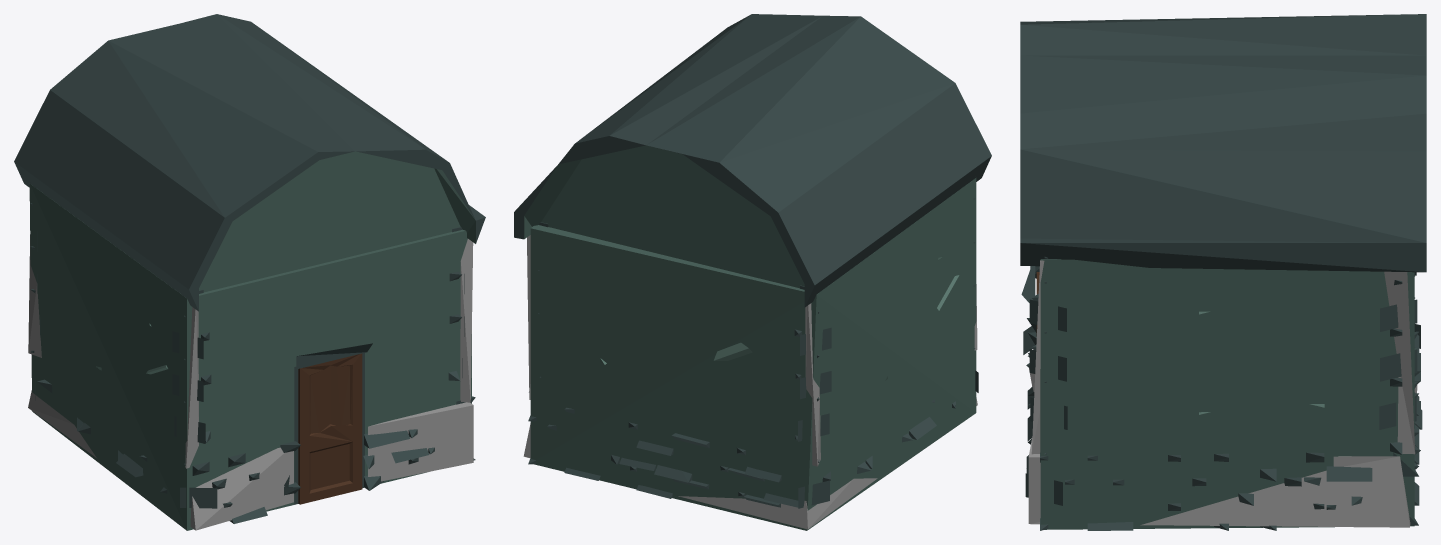
Rendered from 1Story_RoundRoof_lod.glb.
The picture shows the model from 3 angles, left to right: view 1: azimuth 30°, elevation 25°; view 2: azimuth 150°, elevation 25°; view 3: azimuth 270°, elevation 25°; orthographic projection. The views are drawn at different scales.
Visible parts, largest first — view 1: 1Story_RoundRoof_Mat; view 2: 1Story_RoundRoof_Mat; view 3: 1Story_RoundRoof_Mat.
Boxes of the visible parts, <box> form: 1Story_RoundRoof_Mat: <box>14,14,485,530</box>; 1Story_RoundRoof_Mat: <box>514,14,991,530</box>; 1Story_RoundRoof_Mat: <box>1020,14,1426,530</box>.
Bounding box in the file's own units: 2.08 × 2.38 × 2.13.
